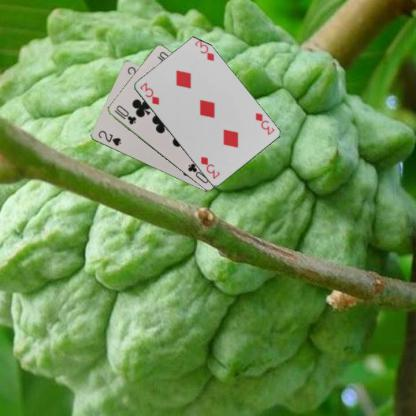10c: (112, 103, 138, 126)
2s: (96, 128, 122, 147)
3d: (137, 80, 160, 106), (252, 110, 275, 136)
